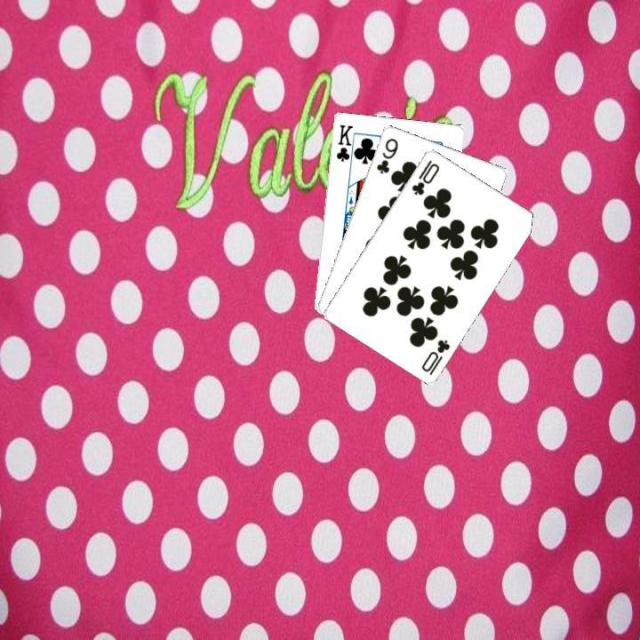10C: (407, 156, 442, 197), (417, 335, 451, 377)
9C: (372, 133, 400, 176)
KC: (332, 121, 358, 168)
